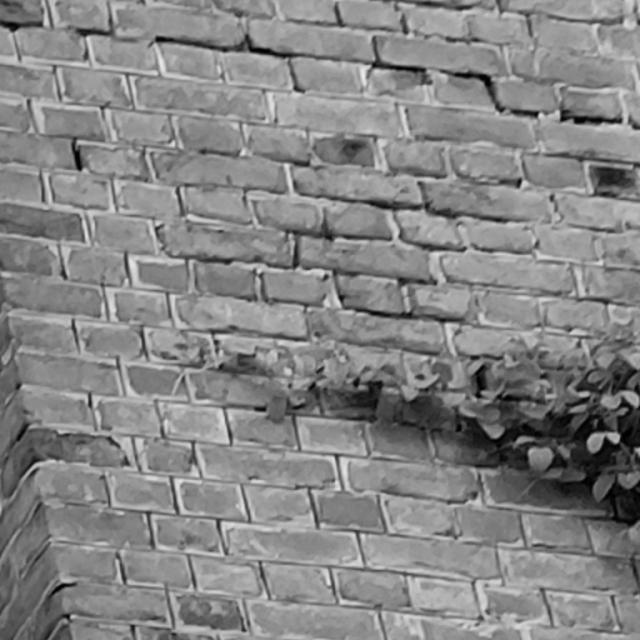crack: (152, 34, 640, 128)
